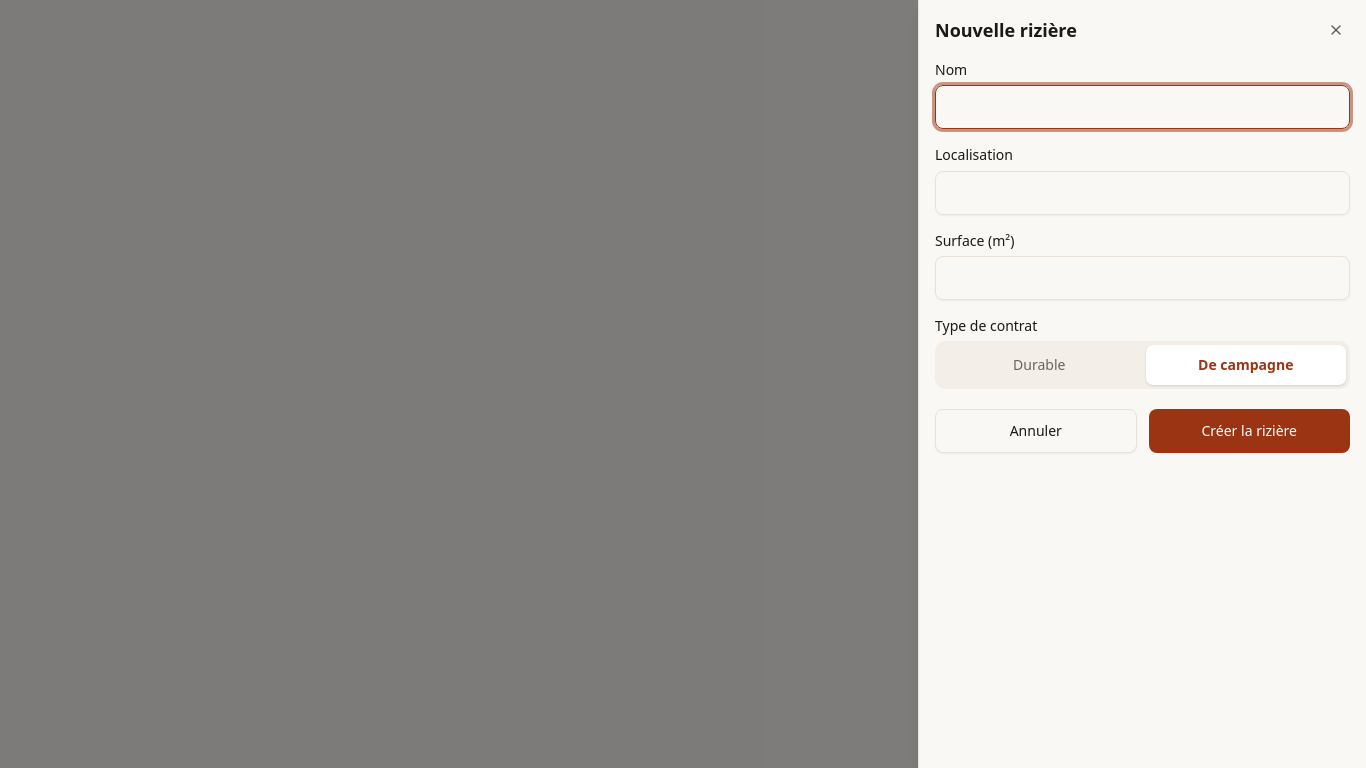
Test: NewRiceFieldPage › keeps only digits typed into the surface, dropping the rest as they are typed
Type "12.5 m²" into the field labelled "Surface (m²)" at (1142, 278), box [935,256,1350,300]
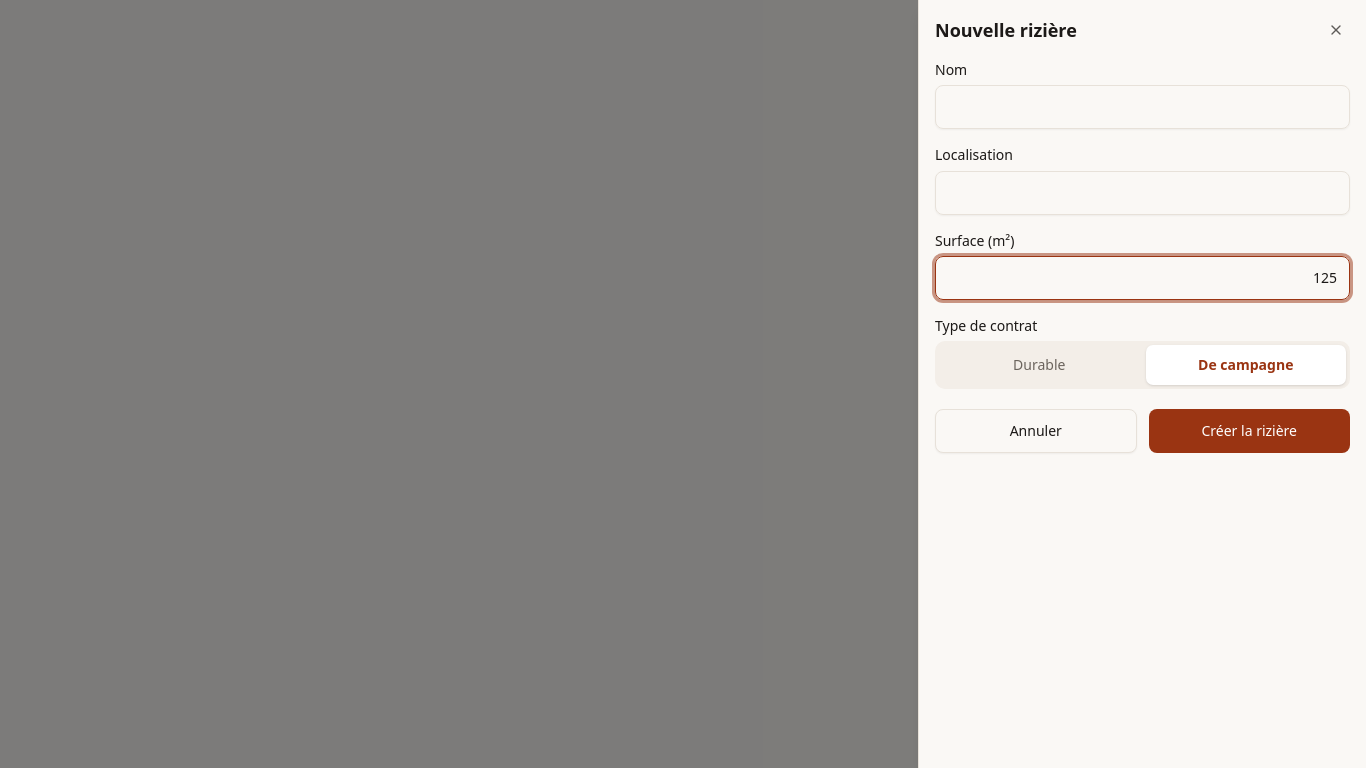
Now the field labelled "Surface (m²)" holds "125", box [935,256,1350,300]
